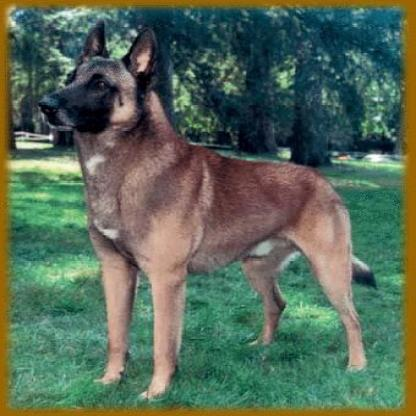malinois: (32, 14, 382, 400)
